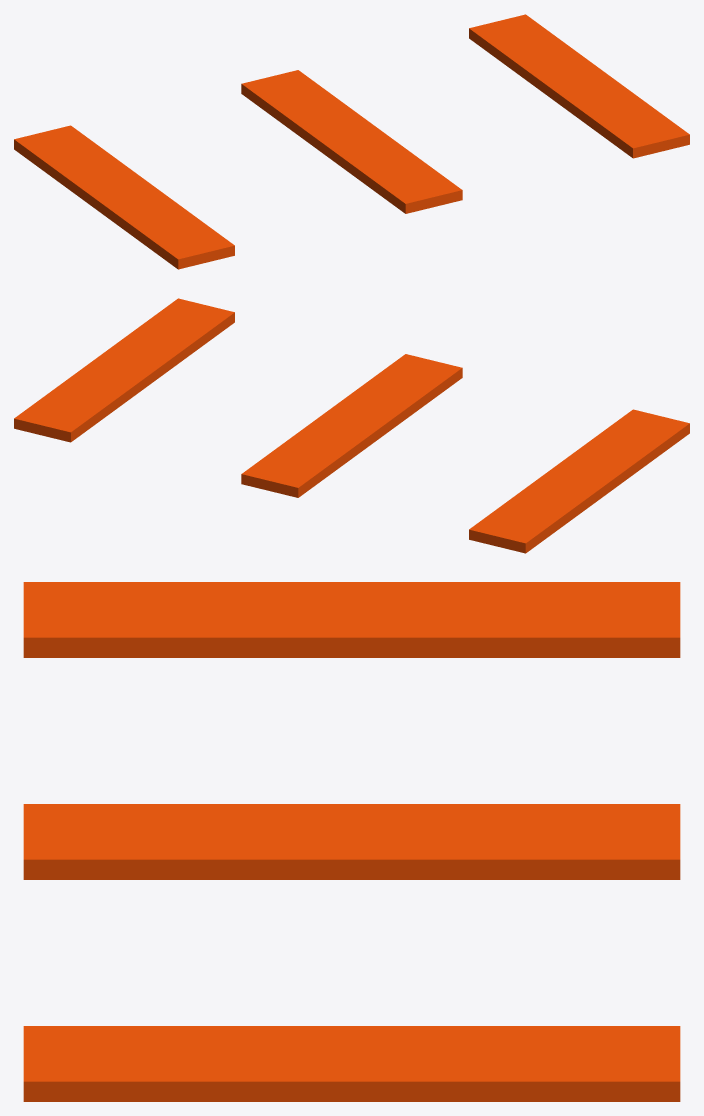
File: 092_L101_Link_Health_Fault_Overlay.fbx
3 views of the same model, one above another, from view 1: azimuth 30°, elevation 25°; view 2: azimuth 150°, elevation 25°; view 3: azimuth 270°, elevation 25° (orthographic). The views are drawn at different scales.
Visible parts, largest first — view 1: Fault_Visual_Chip_01, Fault_Visual_Chip_00, Fault_Visual_Chip_02; view 2: Fault_Visual_Chip_01, Fault_Visual_Chip_00, Fault_Visual_Chip_02; view 3: Fault_Visual_Chip_00, Fault_Visual_Chip_01, Fault_Visual_Chip_02.
Part boxes in pixels (x1,y1,x2,y2): Fault_Visual_Chip_01: (241,70,462,213); Fault_Visual_Chip_00: (14,125,234,269); Fault_Visual_Chip_02: (469,14,689,158); Fault_Visual_Chip_01: (241,354,462,497); Fault_Visual_Chip_00: (469,409,689,553); Fault_Visual_Chip_02: (14,298,234,442); Fault_Visual_Chip_00: (23,582,680,657); Fault_Visual_Chip_01: (23,804,680,879); Fault_Visual_Chip_02: (23,1026,680,1101).
Size of the model in its own units: 0.9 by 0.017 by 0.5.
